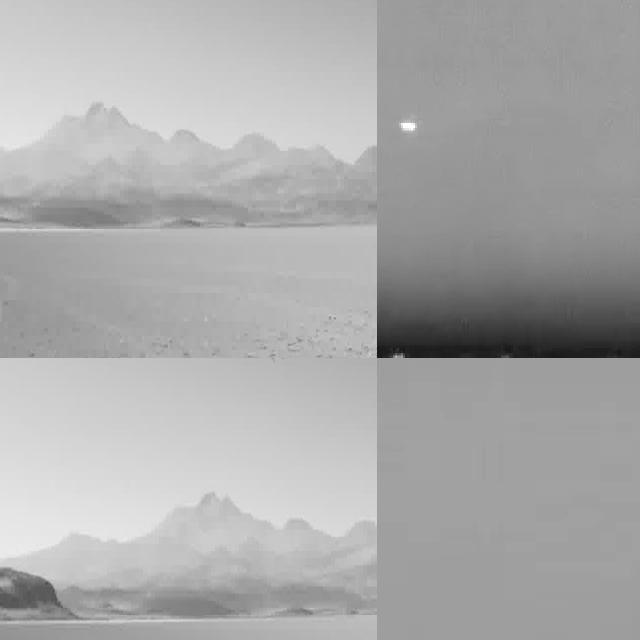1: (390, 114, 426, 144)
drone: (254, 358, 300, 370)
